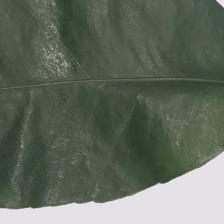healthy: (4, 5, 220, 162)
